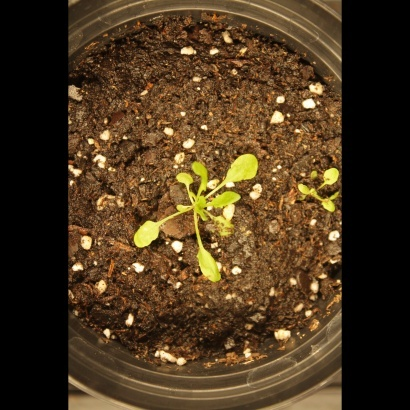leaf: (126, 216, 179, 253), (193, 238, 228, 289), (226, 147, 262, 188), (204, 209, 242, 243), (207, 184, 243, 214), (188, 156, 215, 183), (168, 166, 195, 190), (290, 181, 313, 204), (316, 196, 339, 219), (319, 164, 342, 187), (172, 194, 195, 217)
